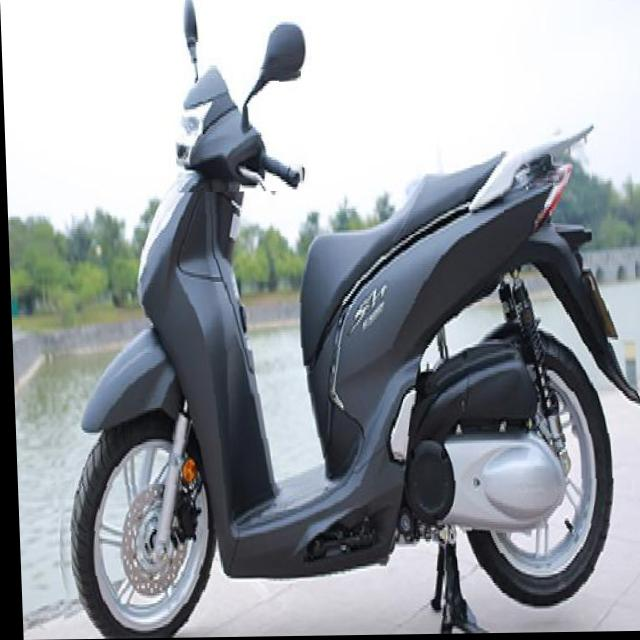All: (31, 52, 640, 640)
Head: (172, 64, 304, 193)
Tail: (499, 122, 592, 227)
